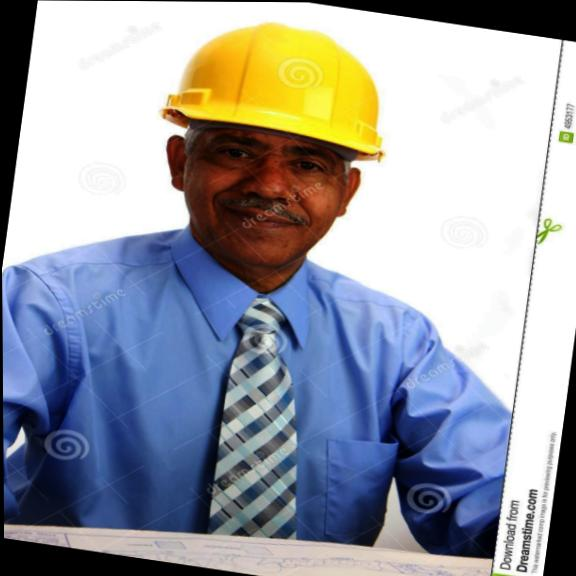no_safety_vest: (2, 222, 455, 554)
